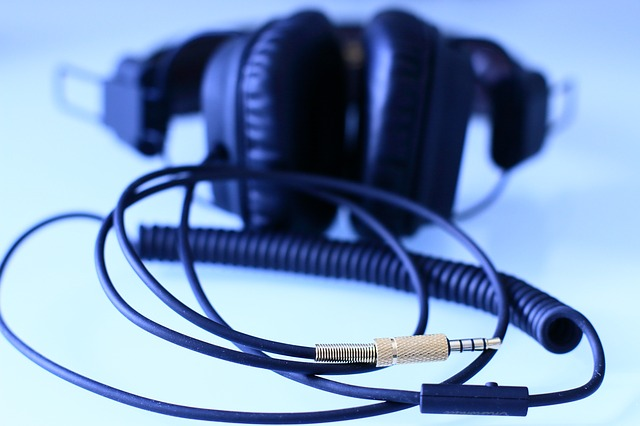headphones: (103, 9, 549, 243)
